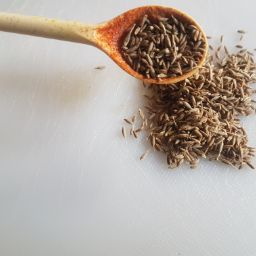Cumin (zeera): (107, 7, 256, 177), (94, 62, 256, 170), (148, 90, 237, 165), (209, 45, 255, 176), (130, 22, 197, 74)
